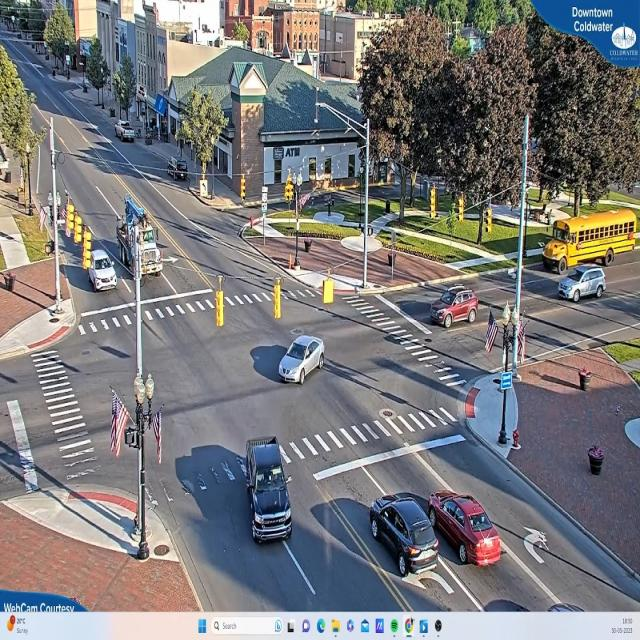bus: (542, 207, 639, 273)
car: (369, 492, 442, 578), (426, 491, 506, 568), (244, 438, 293, 546), (279, 333, 325, 384), (430, 290, 479, 330), (87, 246, 119, 298), (559, 268, 606, 303), (118, 120, 138, 143)
truck: (114, 192, 162, 282)
